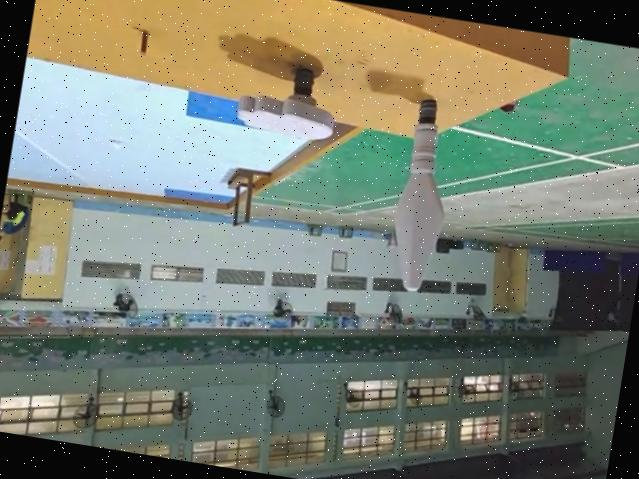Hand: (232, 56, 342, 144)
Sph: (381, 92, 465, 295)
